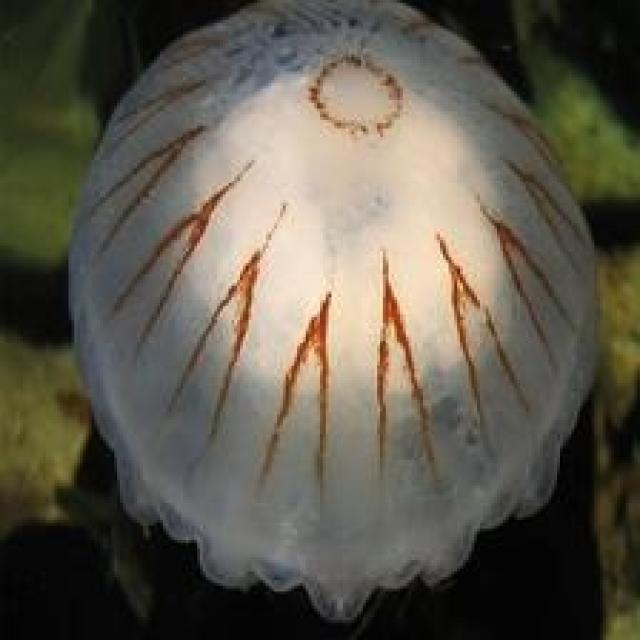Jellyfish: (63, 0, 603, 623)
